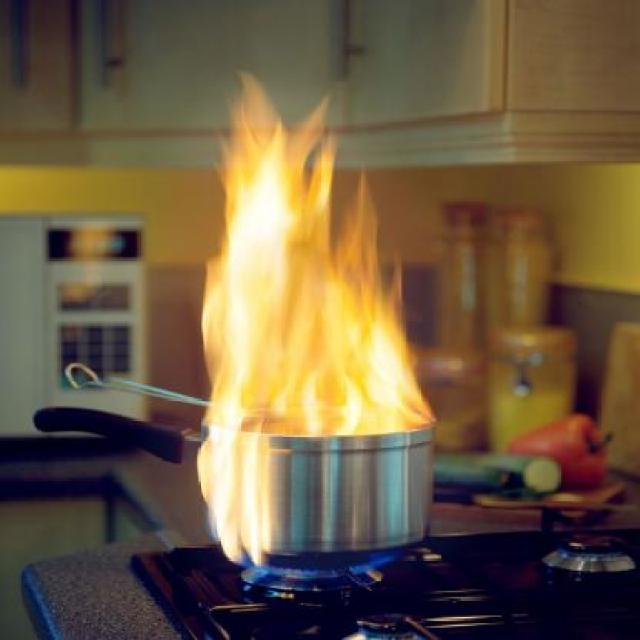Fire: (198, 73, 432, 430), (200, 432, 268, 566)
